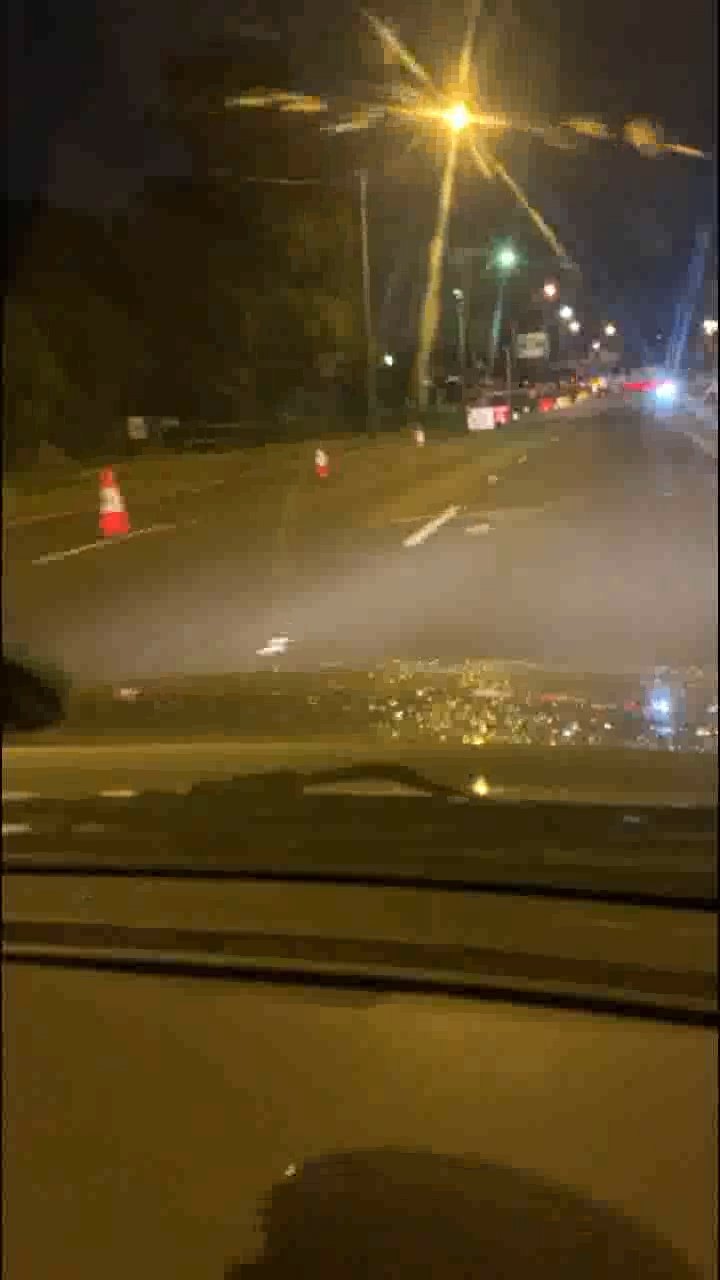road cone: (77, 461, 135, 532), (316, 448, 333, 469)
